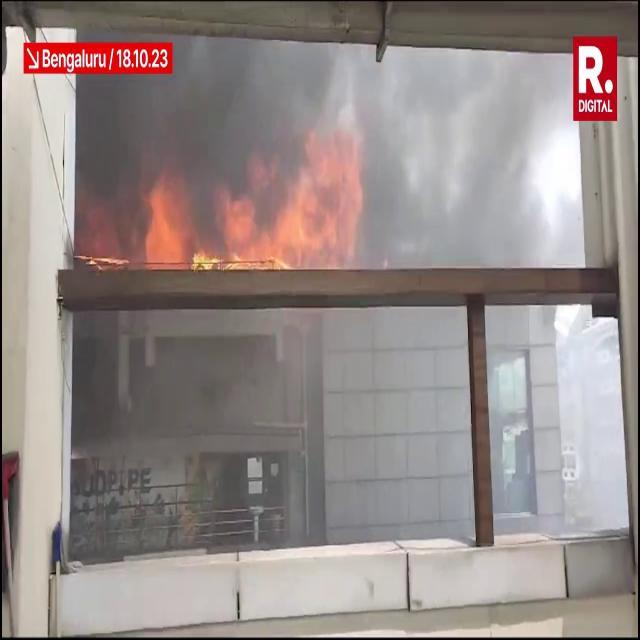Fire: (100, 141, 372, 273)
Smoke: (81, 34, 584, 264)
